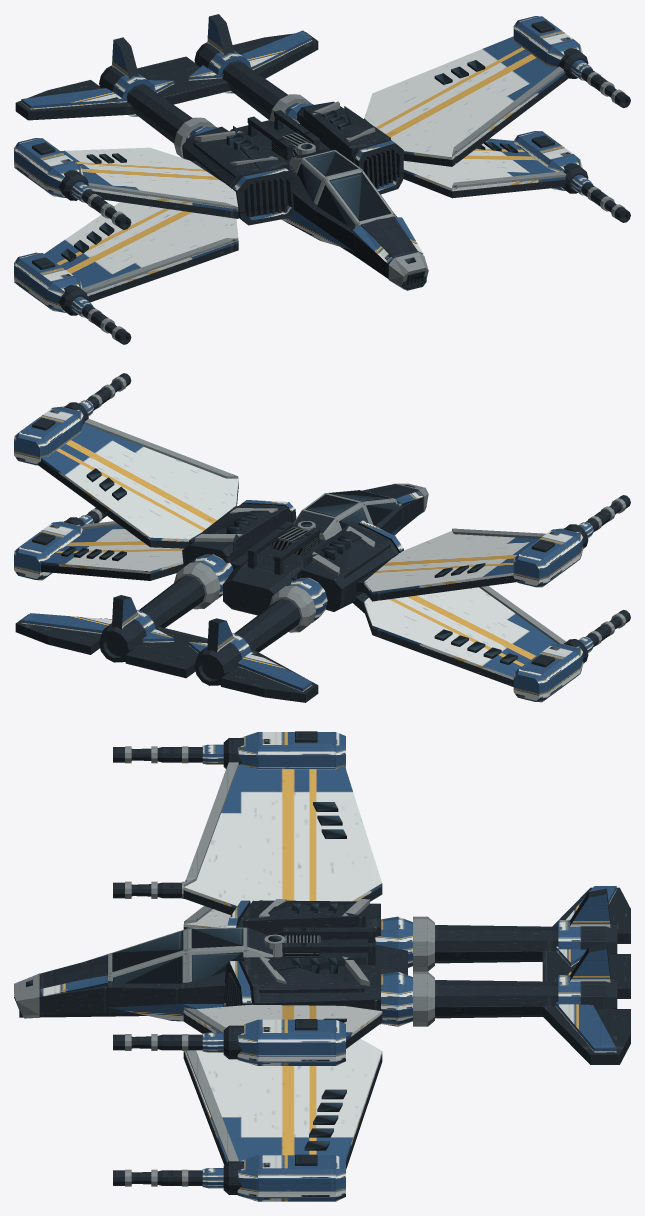
Rendered from scrapper-concord.glb.
3 views of the same model, one above another, from view 1: azimuth 30°, elevation 25°; view 2: azimuth 150°, elevation 25°; view 3: azimuth 270°, elevation 25° (orthographic). The views are drawn at different scales.
Parts seen in each view (by area): view 1: Scrapper · Revised pirate fighter; view 2: Scrapper · Revised pirate fighter; view 3: Scrapper · Revised pirate fighter.
Part boxes in pixels (bbox=[...]): Scrapper · Revised pirate fighter: bbox=[14, 14, 630, 344]; Scrapper · Revised pirate fighter: bbox=[14, 373, 630, 702]; Scrapper · Revised pirate fighter: bbox=[14, 731, 630, 1201].
Size of the model in its own units: 2.02 by 0.5285 by 1.72.
1 material, 1 textured.
